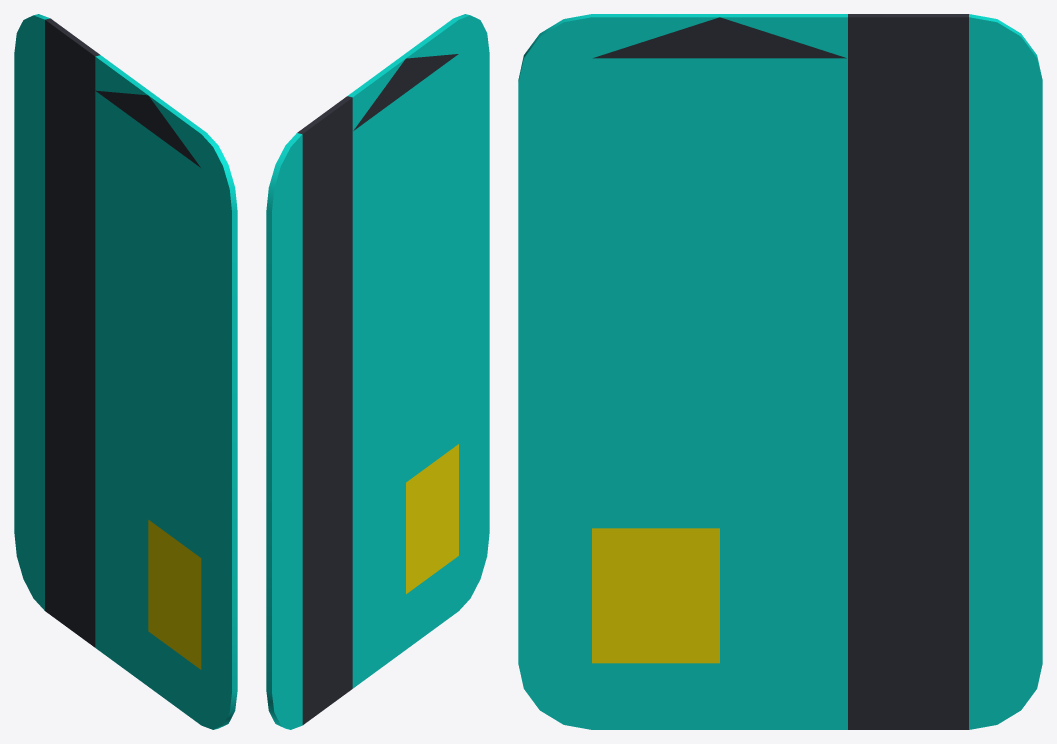
The model's file is Key_Teal.fbx.
3 views of the same model, side by side, from view 1: azimuth 30°, elevation 25°; view 2: azimuth 150°, elevation 25°; view 3: azimuth 270°, elevation 25° (orthographic). The views are drawn at different scales.
Visible parts, largest first — view 1: Key_Teal; view 2: Key_Teal; view 3: Key_Teal.
Boxes of the visible parts, box(x1,y1,x2,y2) form: Key_Teal: box(14, 14, 237, 729); Key_Teal: box(266, 14, 489, 729); Key_Teal: box(518, 14, 1042, 729).
Size of the model in its own units: 0.5245 by 53.71 by 35.82.
